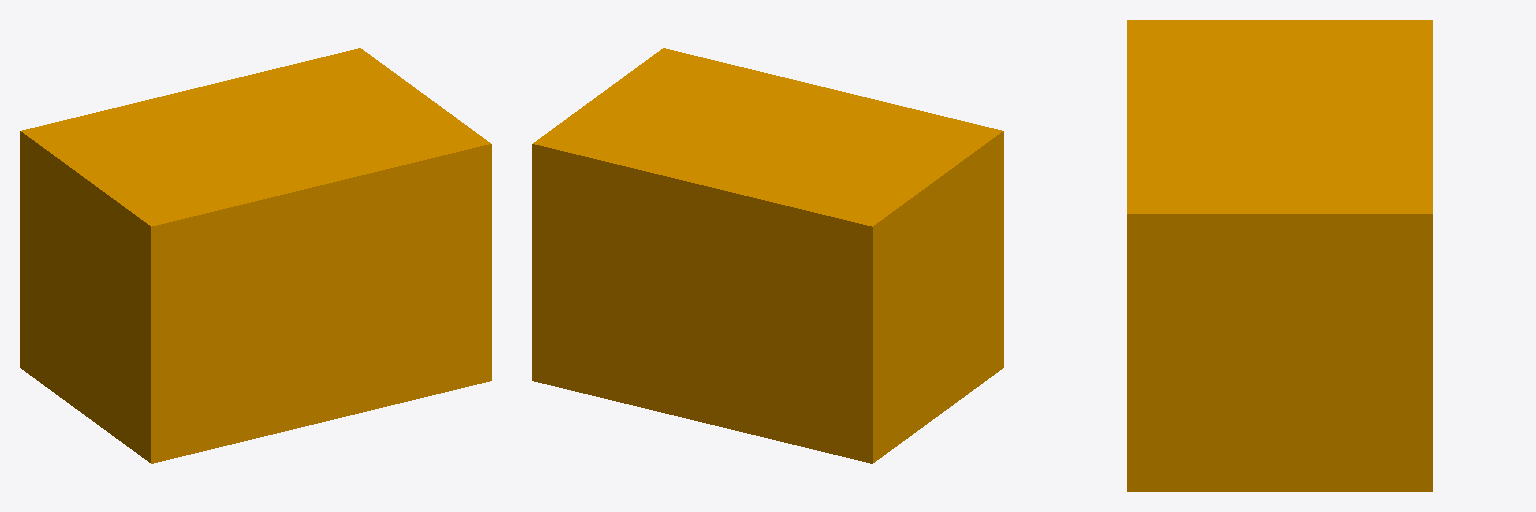
robot.urdf — paper_box:
<robot name="paper_box">
  <link name="paper_box">
  <static>false</static>
    <inertial>
      <origin xyz="0.15 0.1 0.1" />
      <mass value="0.5" />
      <inertia  ixx="0.0033" ixy="0.0"  ixz="0.0"  iyy=".00542"  iyz="0.0"  izz="0.00542" />
    </inertial>
    <visual>
      <origin xyz="0.15 0.1 0.1" />
      <geometry>
        <box size="0.3 0.2 0.2" />
      </geometry>
    </visual>
    <collision>
      <origin xyz="0.15 0.1 0.1" />
      <geometry>
        <box size="0.3 0.2 0.2" />
      </geometry>
    </collision>
  </link>
  <gazebo reference="paper_box">
    <material>Gazebo/Yellow</material>
     <mu1>1000</mu1>
     <mu2>1000</mu2>
  </gazebo>

<surface>
      <friction>
        <ode>
          <mu>10.0</mu>
          <mu2>10.0</mu2>
          <slip1>10</slip1>
          <slip2>10</slip2>
        </ode>
    <bullet>
    <friction>10.0</friction>
    <friction2>10.0</friction2>
    <fdir1>1 1 0</fdir1>
    <rolling_friction>1.0</rolling_friction>
    </bullet>
      </friction>

  <contact>
    <ode>
        <soft_cfm>0</soft_cfm>
        <soft_erp>0.1</soft_erp>
        <kp>1e+10</kp>      
        <kd>10</kd>
        <max_vel>0.01</max_vel>
        <min_depth>1</min_depth>
    </ode>
  </contact>
  </surface>
</robot>

--- What the picture shows (computed from the rendered views, not written in the file) ---
Views: 3 orthographic renders of the robot side by side, from view 1: azimuth 30°, elevation 25°; view 2: azimuth 150°, elevation 25°; view 3: azimuth 270°, elevation 25°.
Model paper_box with 1 links and 0 joints (none), rooted at paper_box, posed every joint at zero.
Visible links, largest first — view 1: paper_box; view 2: paper_box; view 3: paper_box.
Link boxes in pixels (x1,y1,x2,y2): paper_box: [20, 48, 491, 463]; paper_box: [532, 48, 1003, 463]; paper_box: [1127, 20, 1432, 491].
Bounding box of the posed robot: 0.3 × 0.2 × 0.2 m (x, y, z).
Geometry: primitives only (box / cylinder / sphere), no mesh files.